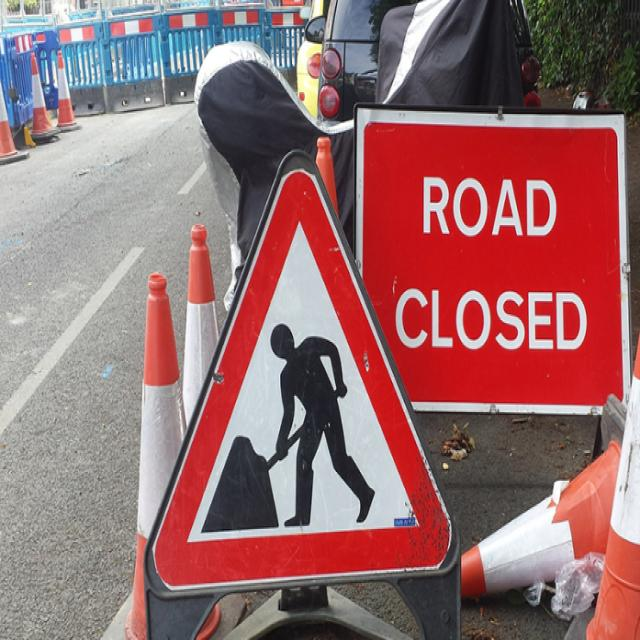WORKERS: (149, 153, 452, 590)
